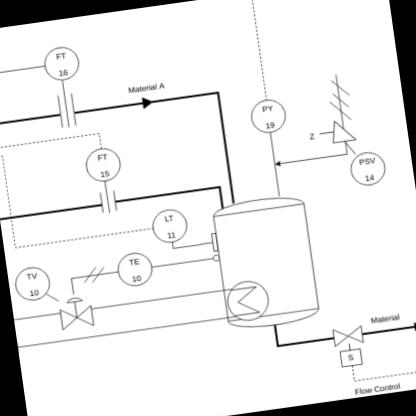LMI: (78, 142, 130, 184), (40, 37, 84, 83), (114, 242, 156, 290), (146, 200, 190, 245), (245, 95, 292, 136), (9, 262, 54, 304), (346, 148, 393, 188)
